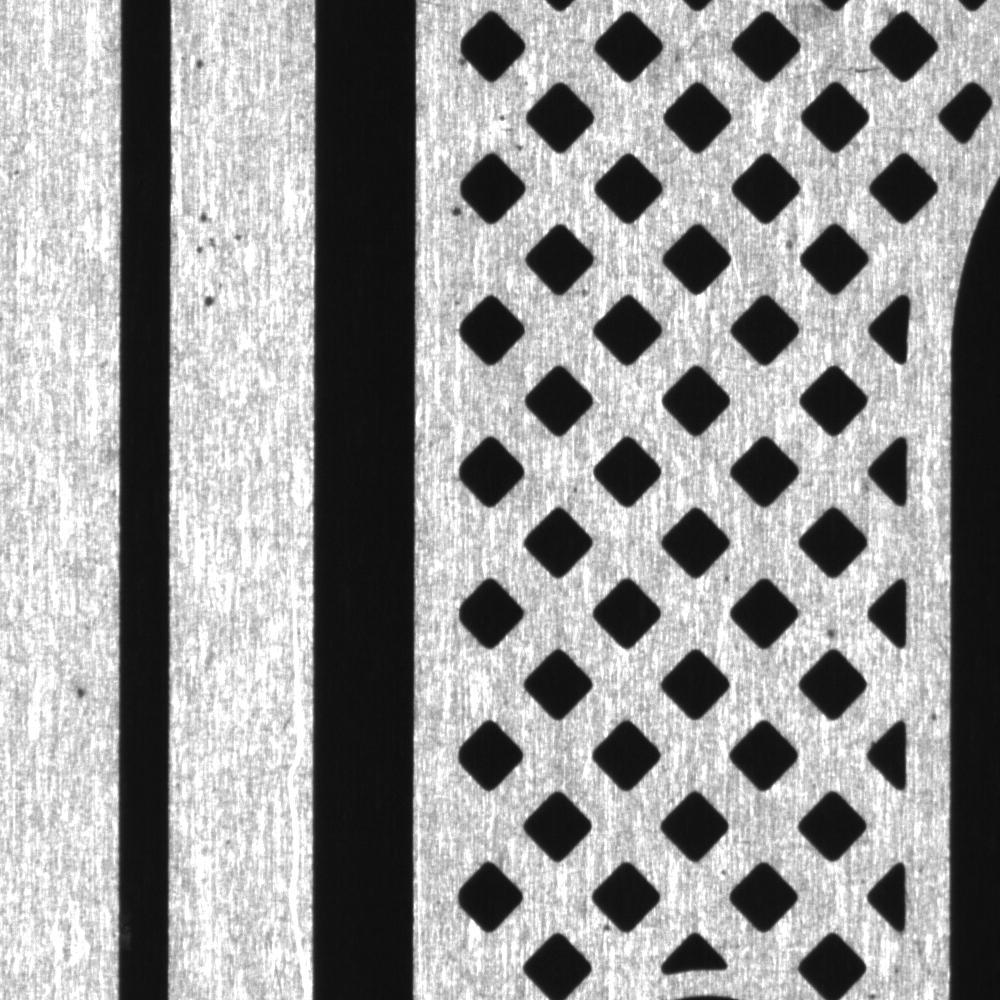Etching: (184, 195, 262, 266), (64, 668, 98, 710)
Pinhole: (180, 37, 218, 88), (441, 190, 470, 234), (189, 286, 226, 315)
